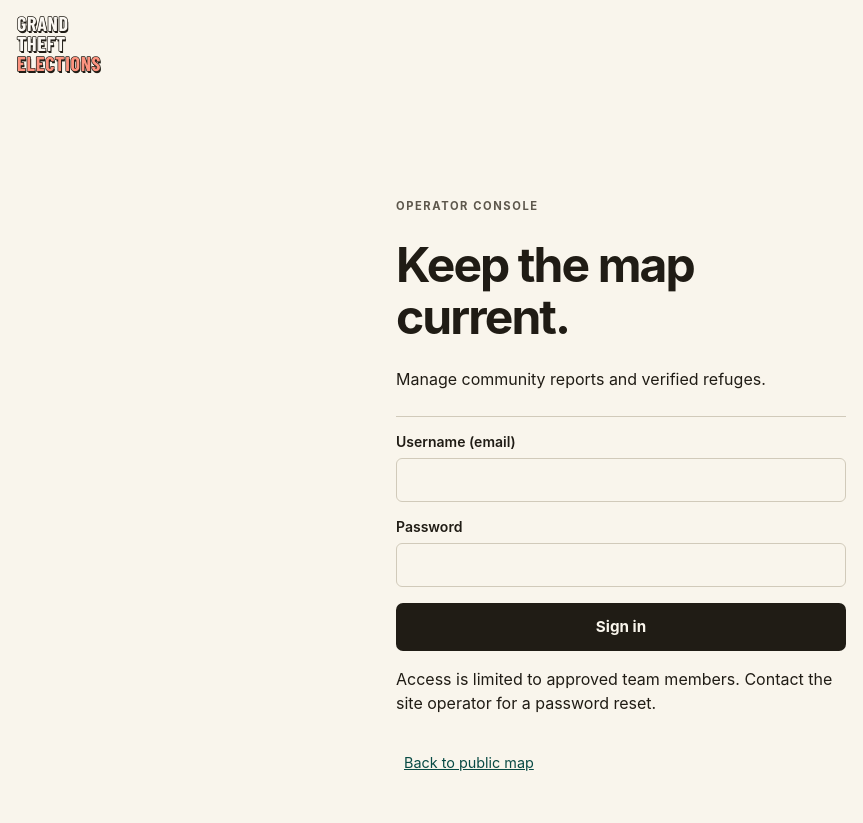
admin signs in with username and password and preserves useful failure feedback
The image size is (863, 823).
Type "owner@example.test" into the field labelled "Username (email)" at (621, 480), box [396, 458, 846, 502]
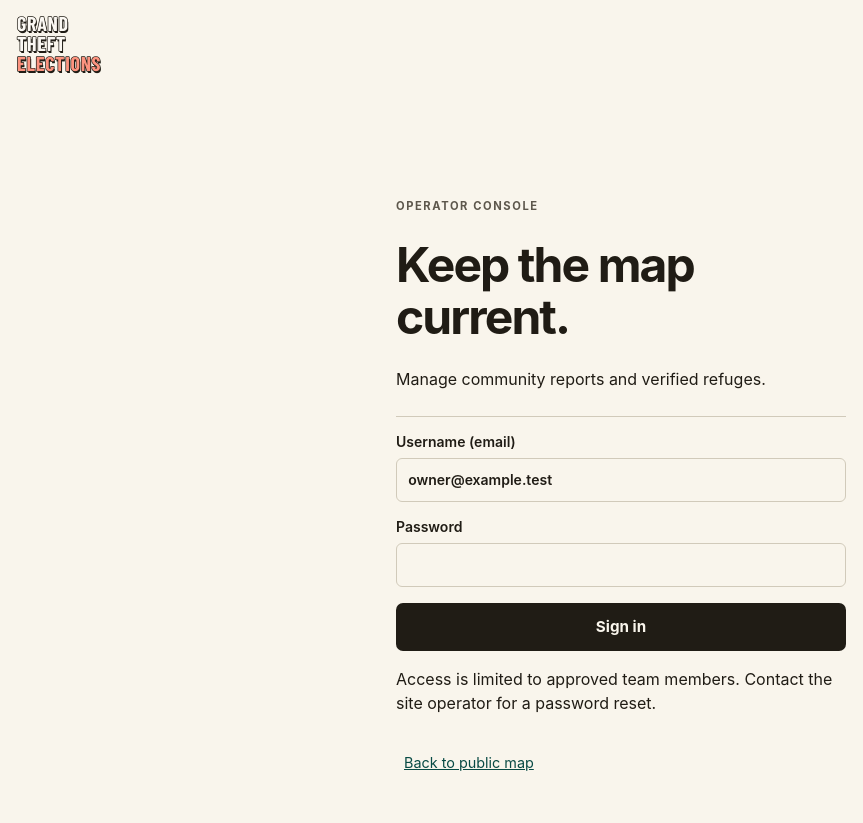
Type "A sufficiently long password" into the password field labelled "Password" at (621, 564), box [396, 542, 846, 586]
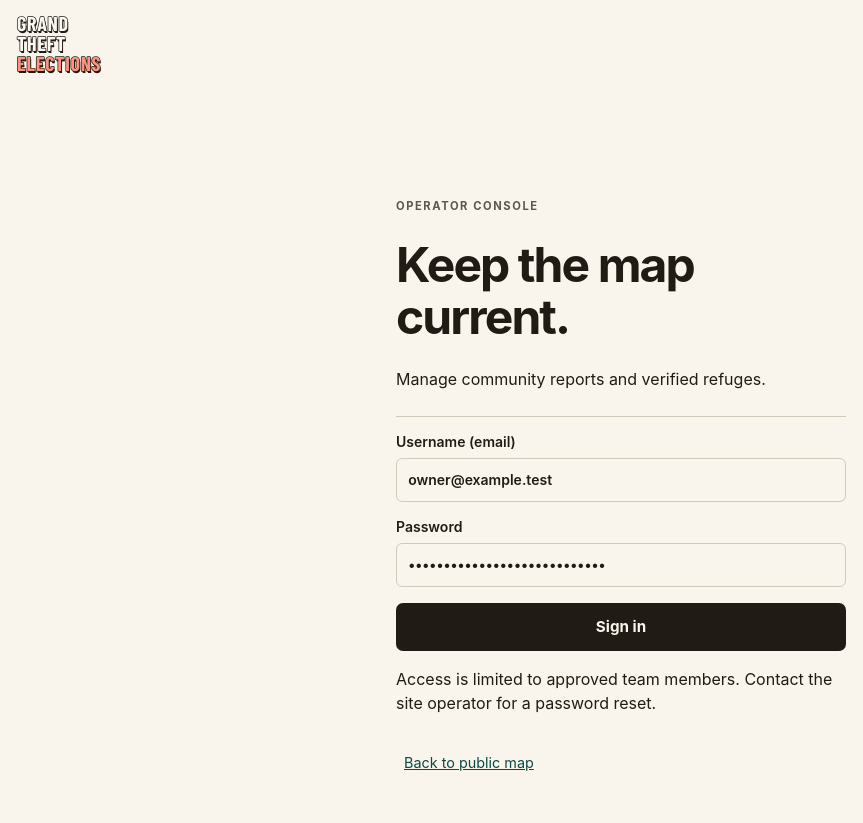
Click the button "Sign in" at (621, 626), box [396, 602, 846, 650]
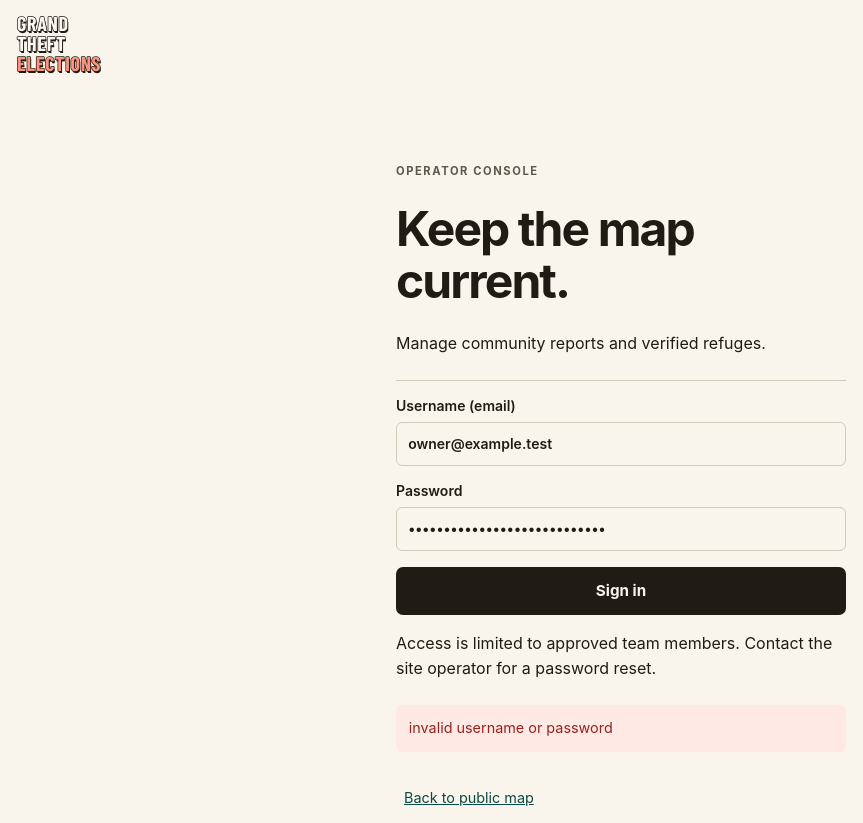
Expected: the button "Sign in" is enabled, [396, 567, 846, 615]
Expected: the message "invalid username or password" is shown, [396, 704, 846, 752]
Expected: the message reads "invalid username or password", [409, 719, 613, 736]
